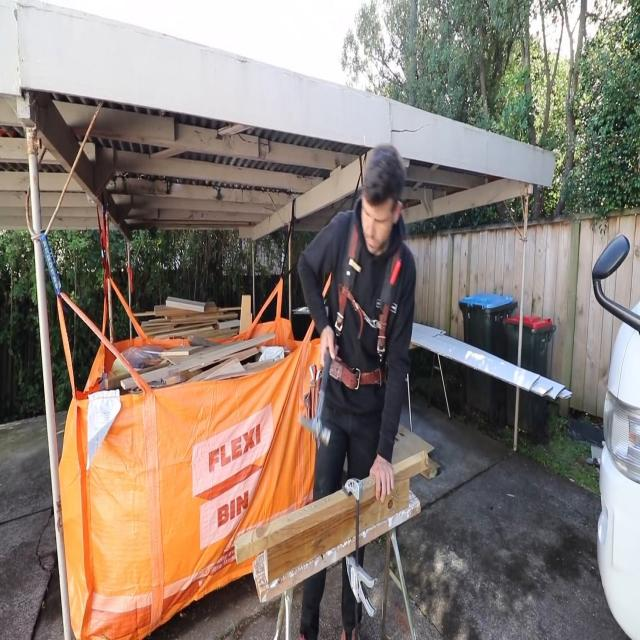hammer: (299, 351, 331, 446)
